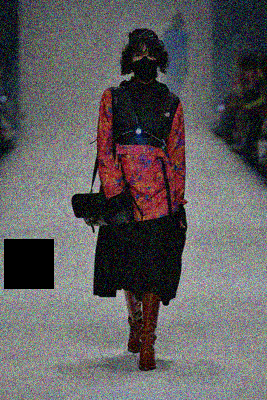with_mask: (132, 47, 159, 81)
